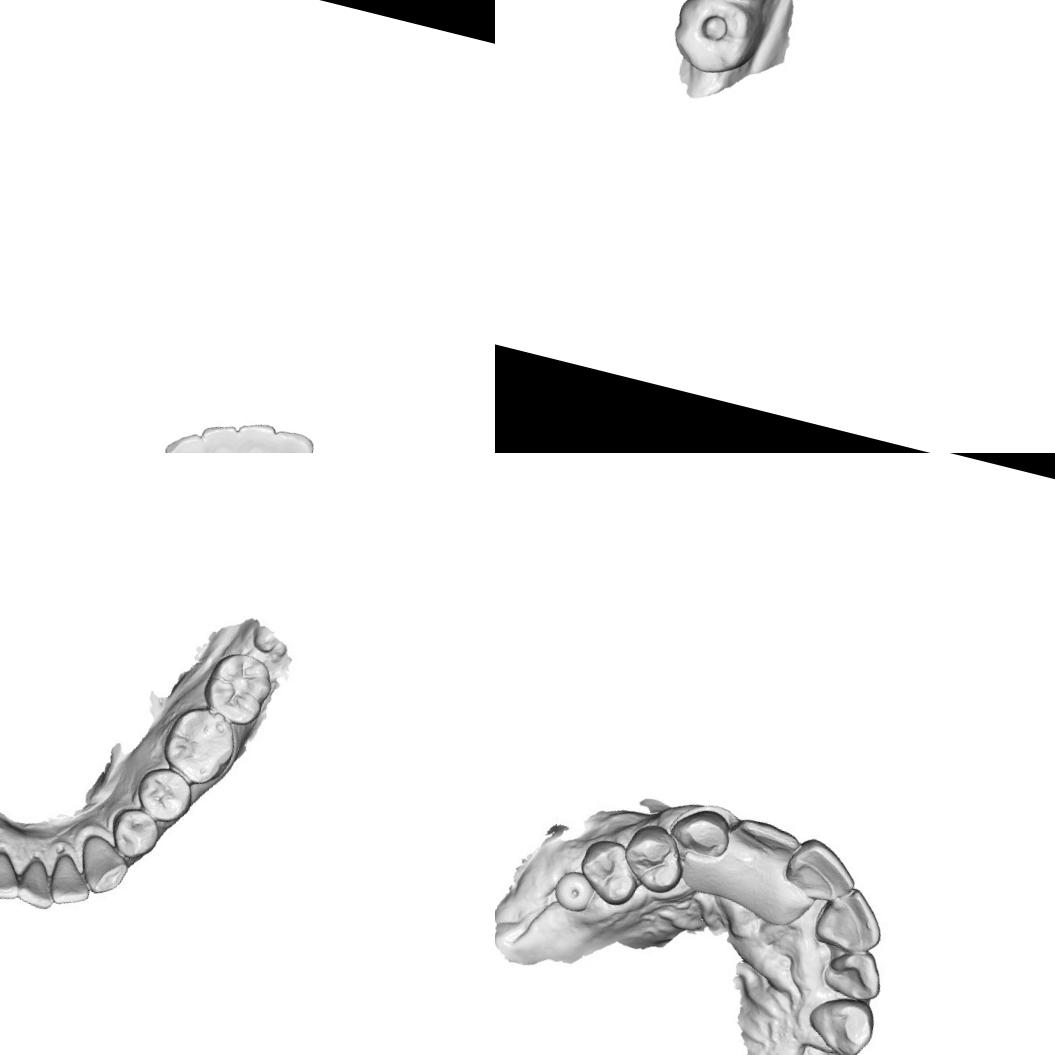canine: (798, 990, 877, 1055), (669, 798, 735, 863), (72, 830, 132, 900)
implant: (546, 863, 603, 920)
incisor: (784, 833, 859, 906), (815, 886, 888, 958), (824, 946, 883, 1006), (733, 814, 800, 863), (11, 850, 60, 912), (47, 849, 95, 906), (188, 418, 247, 453), (224, 416, 277, 453), (152, 424, 219, 453), (261, 425, 317, 453), (0, 847, 22, 901)
molar: (667, 0, 767, 84), (156, 699, 243, 790), (196, 644, 279, 732)
premolar: (578, 837, 642, 906), (130, 761, 196, 826), (105, 804, 165, 864), (626, 831, 684, 891)
